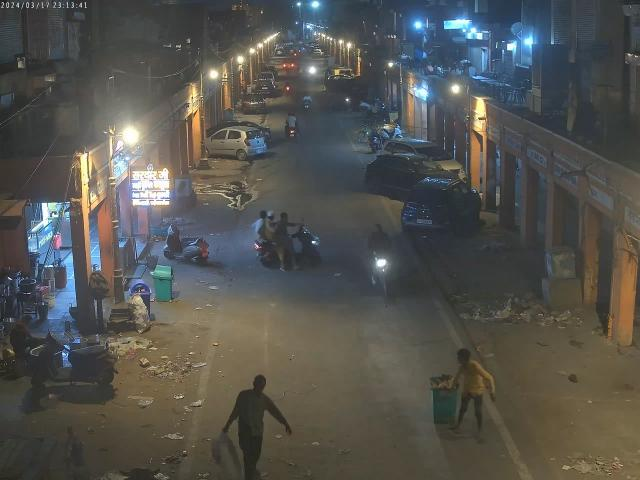motorbike-rider: (364, 222, 395, 297)
person: (222, 370, 294, 480), (451, 350, 497, 430)
scooty: (37, 336, 115, 390), (159, 222, 214, 266)
scooty-rider: (252, 208, 324, 272), (247, 132, 270, 156)
